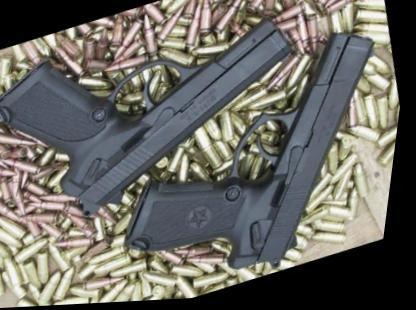pistol: (86, 19, 412, 302), (0, 0, 329, 239)
